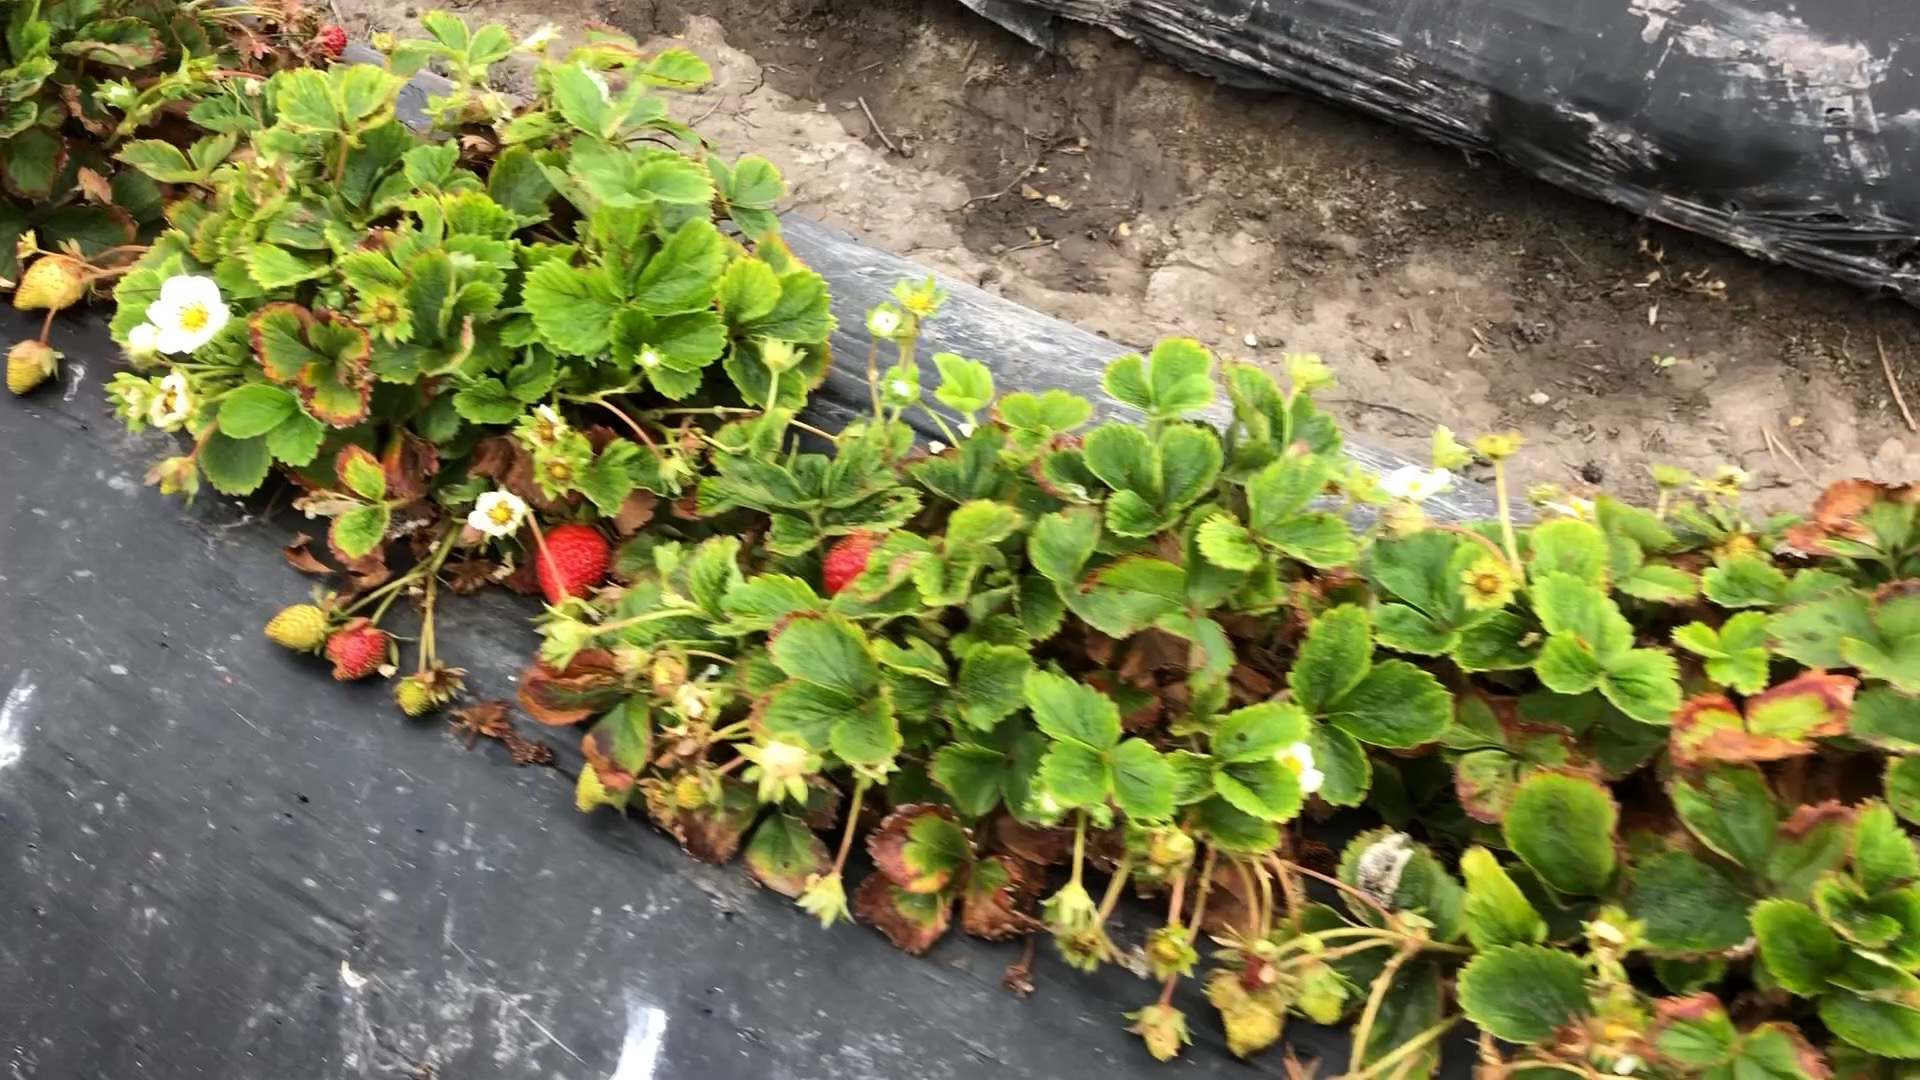ripe_strawberry: (538, 520, 613, 611), (326, 616, 384, 684), (820, 533, 880, 587), (309, 25, 352, 62)
unripe_strawberry: (11, 247, 94, 316), (262, 599, 334, 655), (1292, 964, 1349, 1031), (5, 342, 66, 400), (1135, 1007, 1193, 1065), (568, 760, 617, 812), (396, 674, 431, 719), (673, 777, 709, 808)
